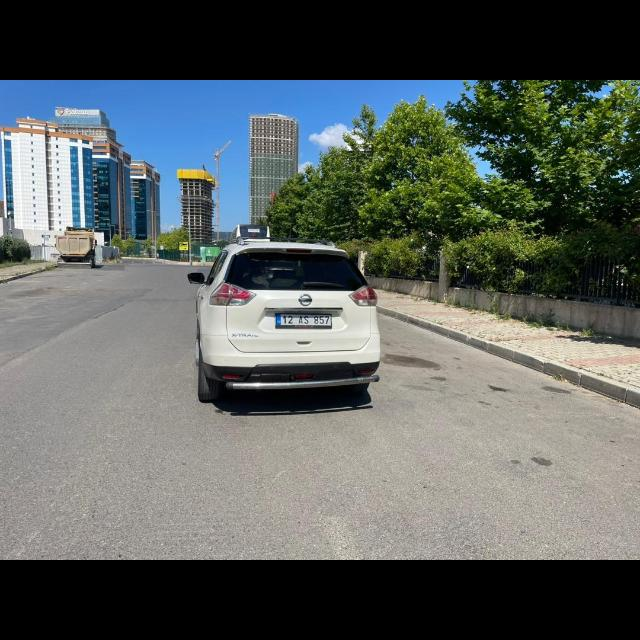Plaka: (274, 314, 332, 326)
